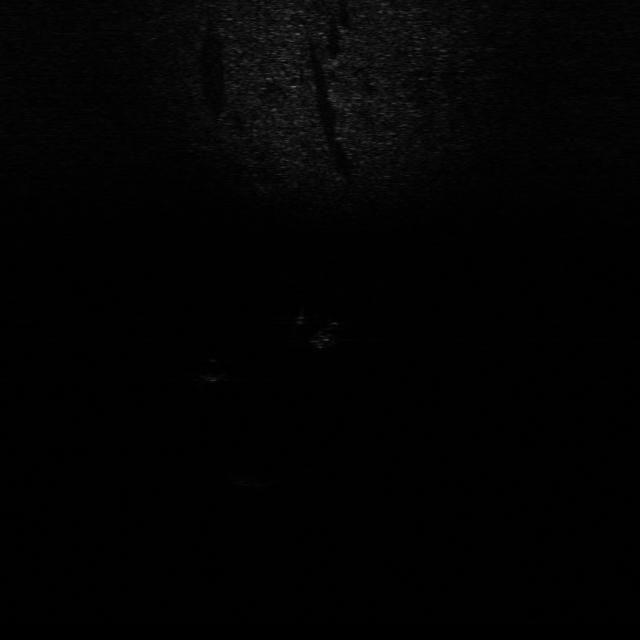ball: (196, 355, 230, 383)
circle cage: (226, 464, 292, 490)
human body: (290, 304, 358, 350)
